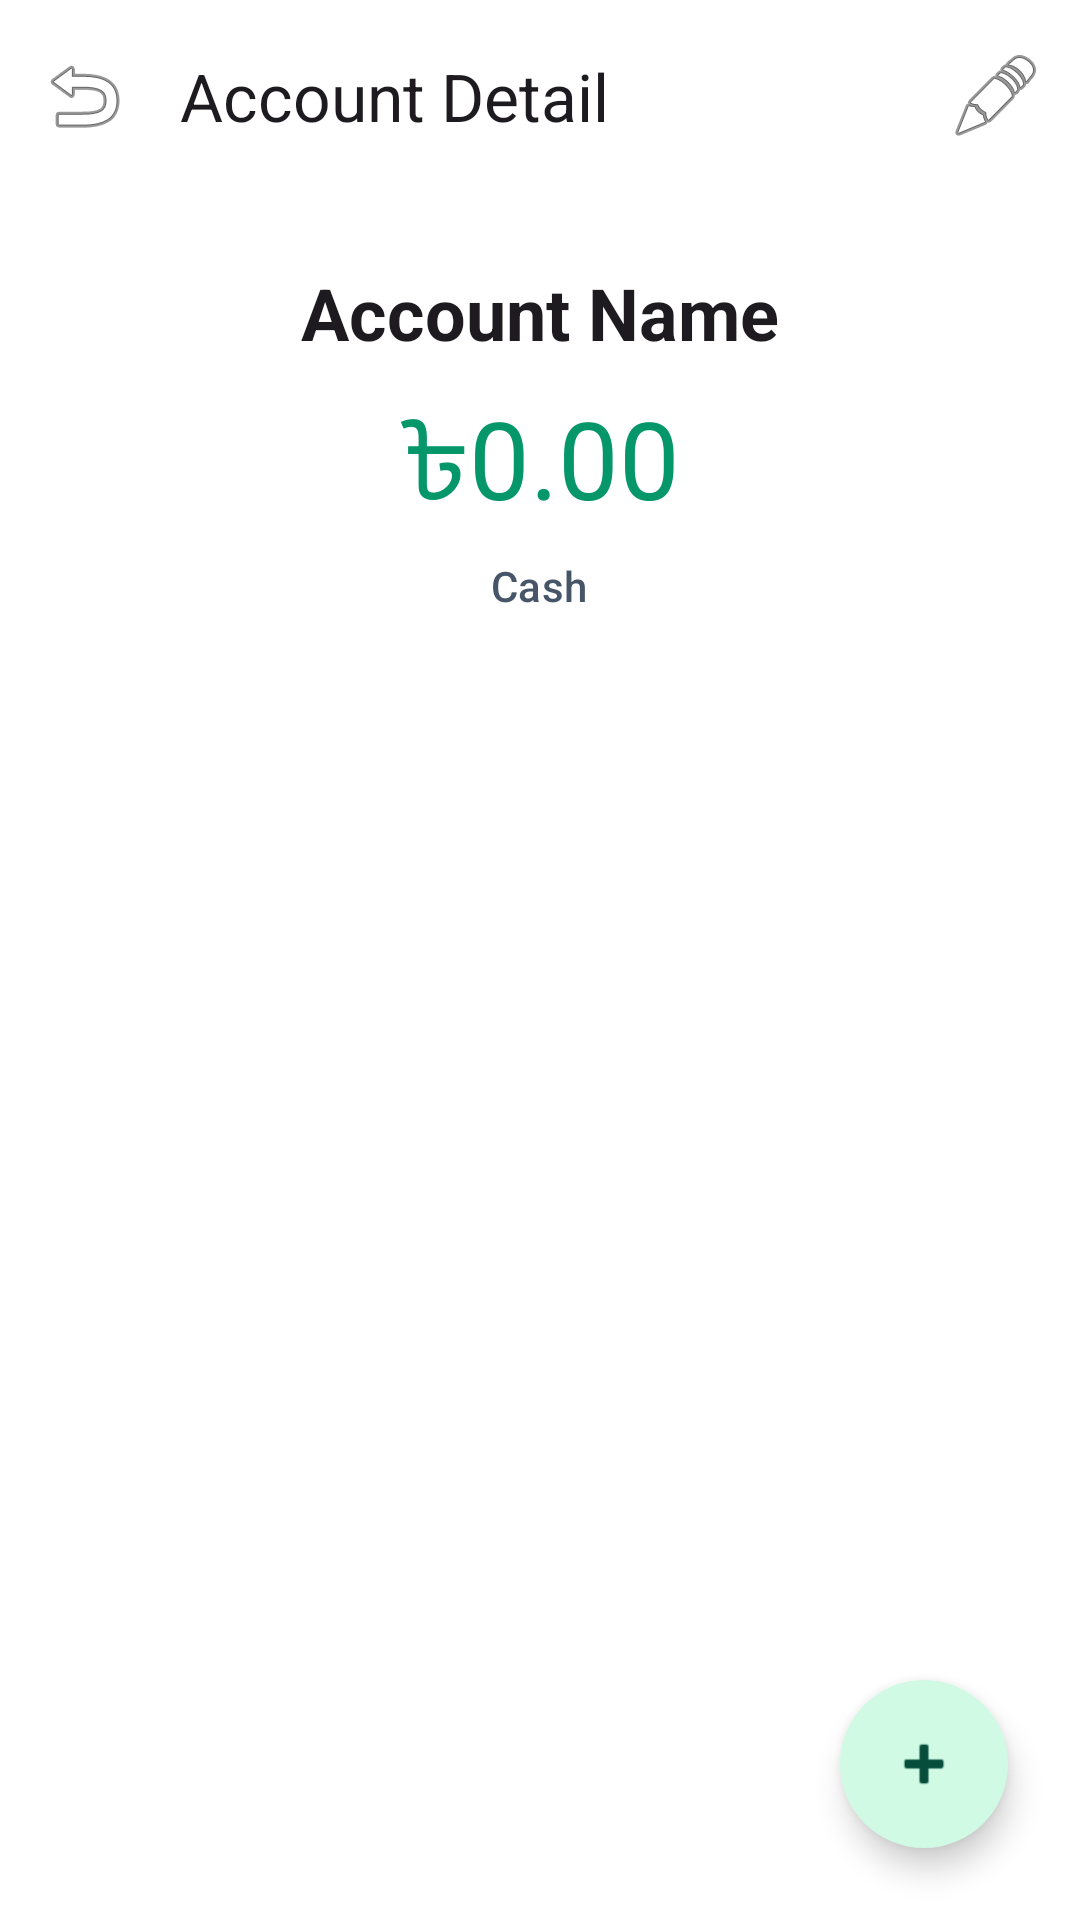

Screen size 1080×1920. Icon name, then its box in pixels as (x1, y1, x2, y2):
Add Transaction: (840, 1680, 1008, 1848)
